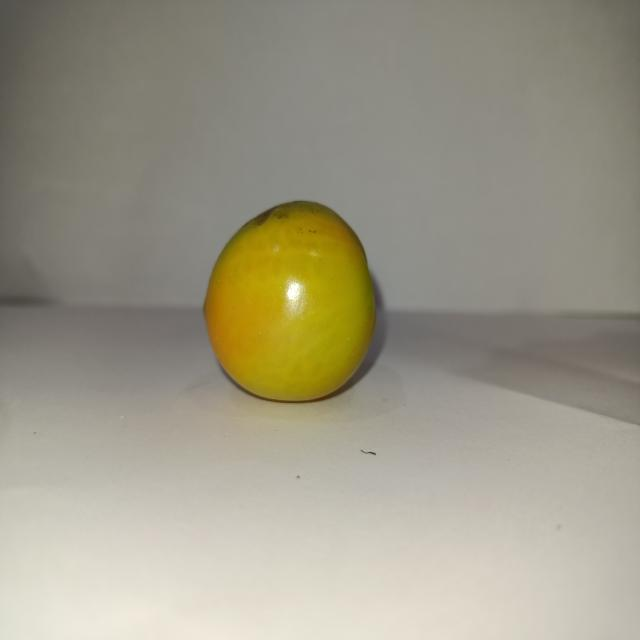Red: (202, 198, 377, 403)
